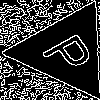P: (40, 26, 100, 79)
